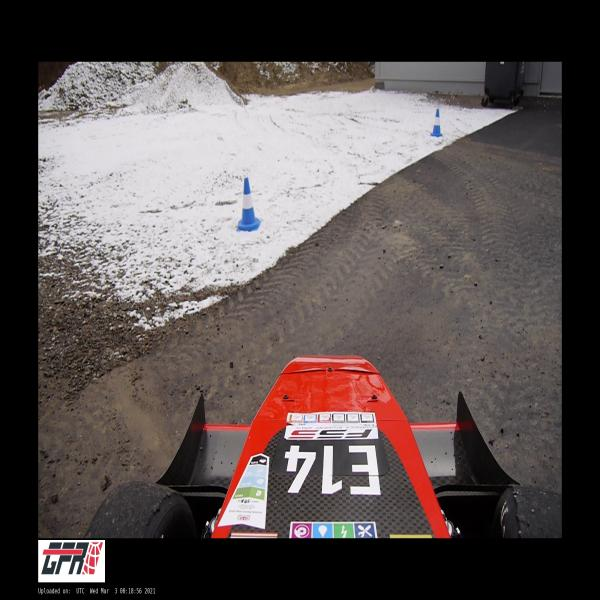blue_cone: (236, 178, 261, 231), (431, 109, 442, 136)
